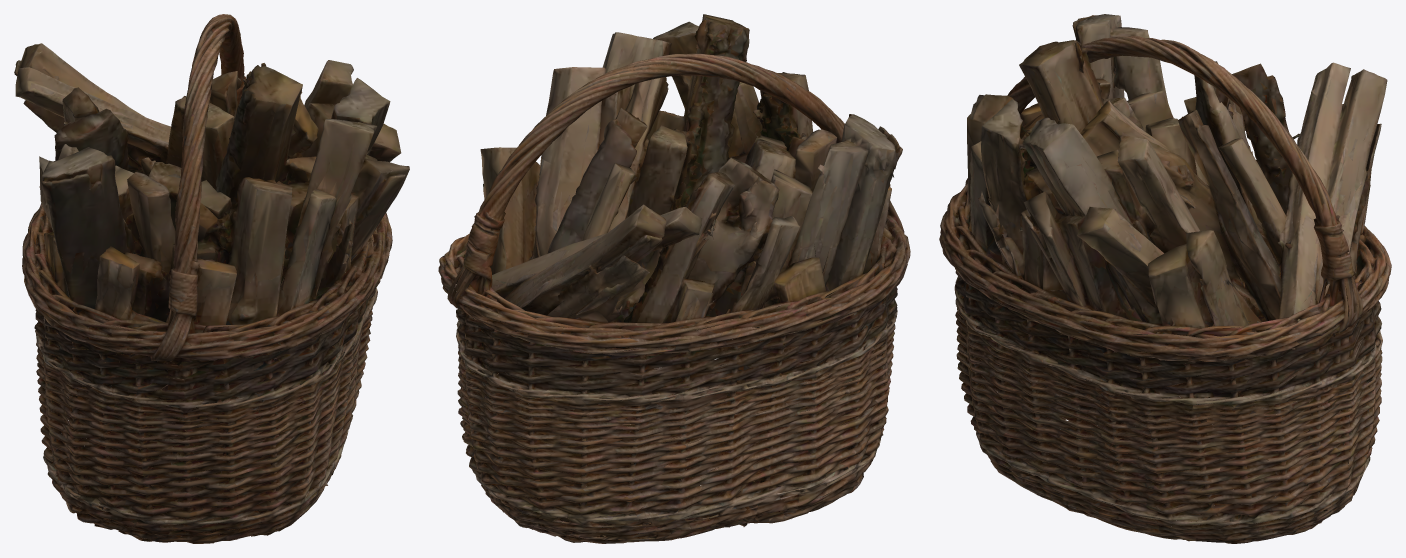
Rendered from wicker_basket_with_firewood.glb.
3 renders of one model, left to right at view 1: azimuth 30°, elevation 25°; view 2: azimuth 150°, elevation 25°; view 3: azimuth 270°, elevation 25°, orthographic. The views are drawn at different scales.
Parts seen in each view (by area): view 1: Object_3, Object_2, Object_4; view 2: Object_3, Object_2, Object_4; view 3: Object_3, Object_2, Object_4.
Boxes of the visible parts, x1,y1,x2,y2 form: Object_3: [14, 14, 409, 531]; Object_2: [22, 142, 392, 543]; Object_4: [22, 143, 391, 541]; Object_3: [443, 14, 907, 505]; Object_2: [438, 183, 906, 543]; Object_4: [439, 155, 910, 543]; Object_3: [967, 14, 1387, 543]; Object_2: [939, 123, 1391, 543]; Object_4: [955, 190, 1391, 542].
Bounding box in the file's own units: 8.46 × 9.2 × 8.44.
Materials: 3 (3 with a texture image).
